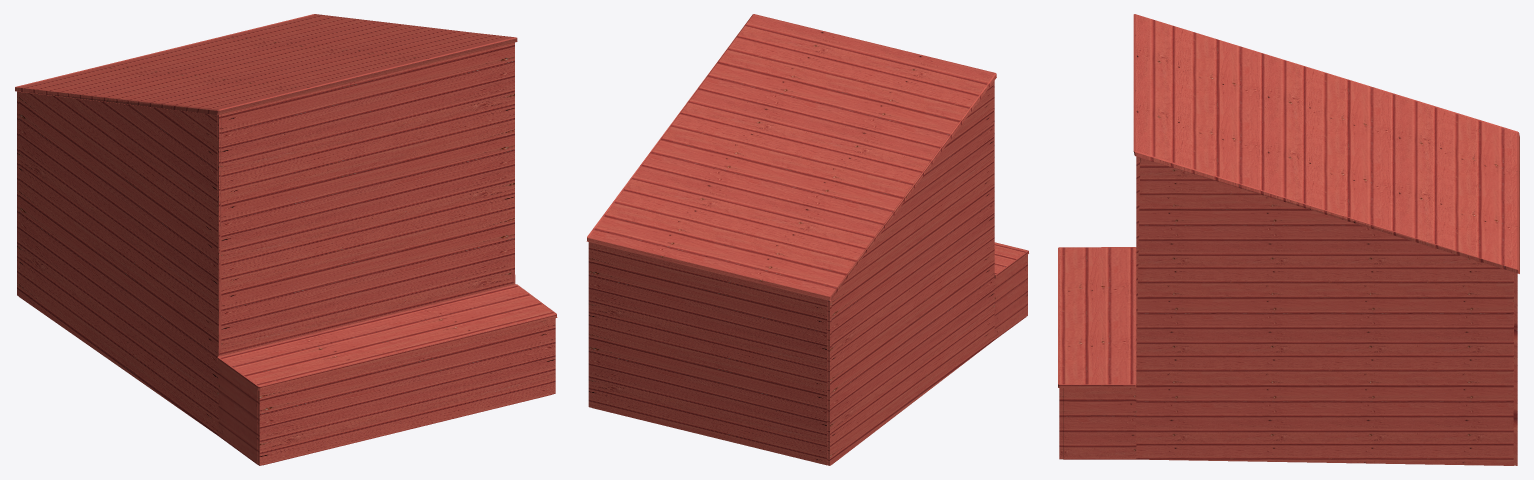
The model's file is kulube.FBX.
3 views of the same model, side by side, from view 1: azimuth 30°, elevation 25°; view 2: azimuth 150°, elevation 25°; view 3: azimuth 270°, elevation 25° (orthographic). The views are drawn at different scales.
Visible parts, largest first — view 1: Box001; view 2: Box001; view 3: Box001.
Part boxes in pixels (left/top/right/bottom): Box001: left=15, top=14, right=557, bottom=465; Box001: left=586, top=14, right=1028, bottom=465; Box001: left=1058, top=14, right=1519, bottom=465.
Size of the model in its own units: 983 by 1044 by 1387.
Materials: 1 (1 with a texture image).
